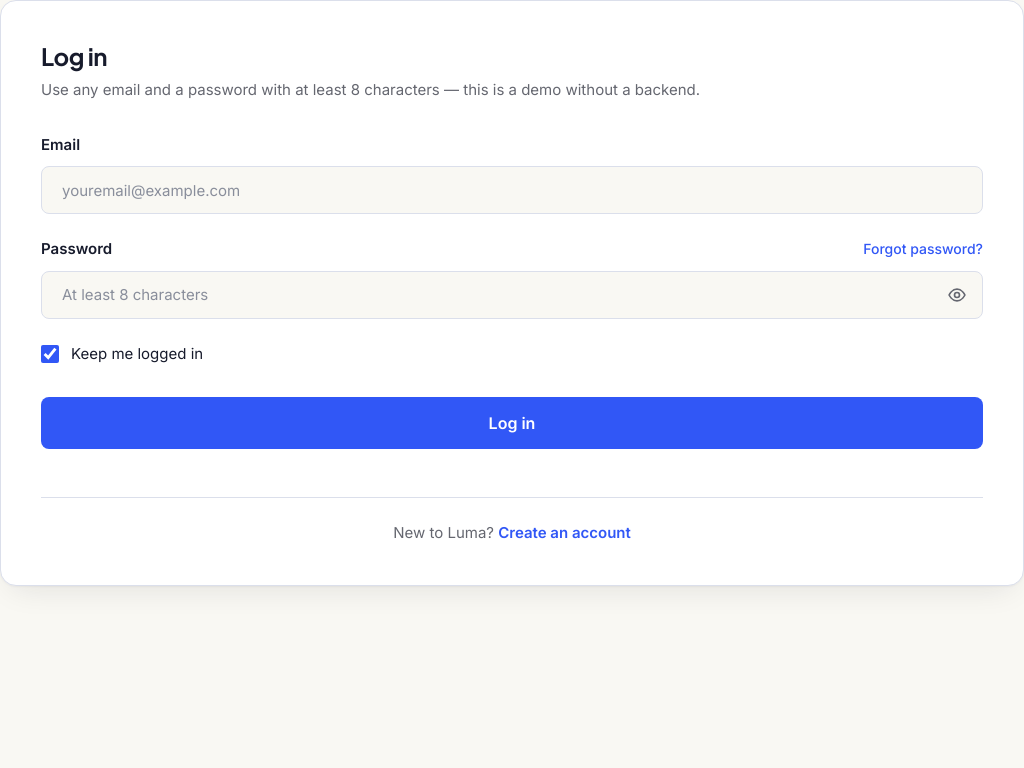
Test case: LoginForm › shows validation errors and focuses the first invalid field
The width and height of the screenshot is (1024, 768).
Type "not-an-email" into the field labelled "Email" at (512, 190), box [41,166,983,214]
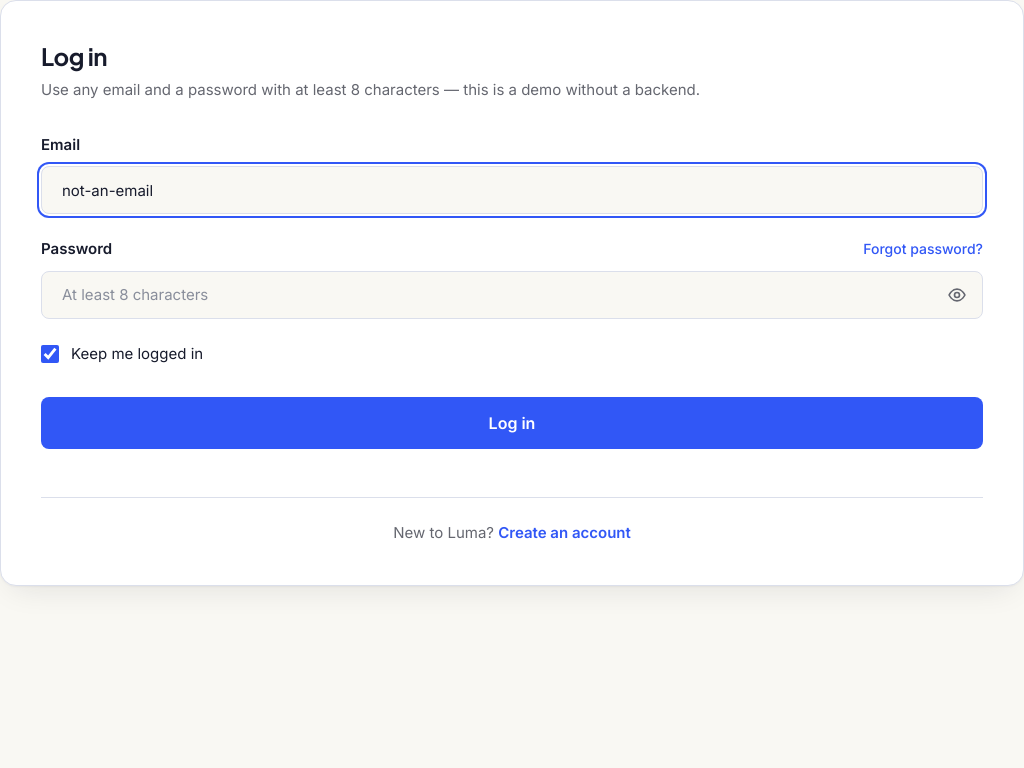
Click the button "Log in" at (512, 423), box [41,397,983,449]
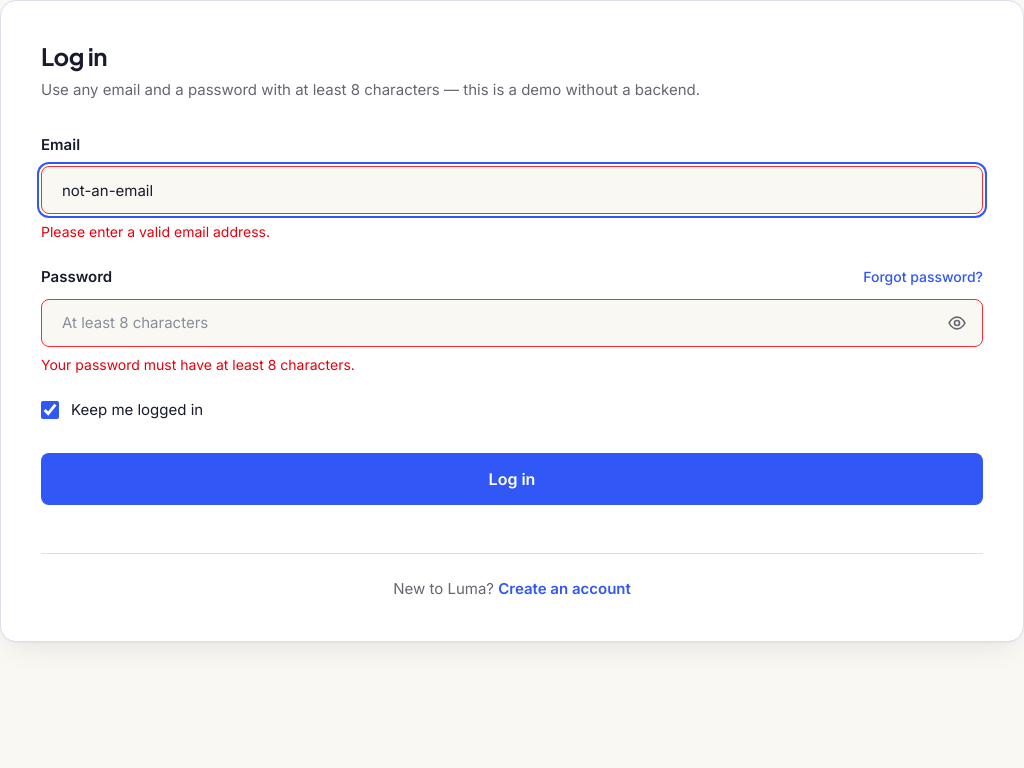
Expected: the text "Please enter a valid email address." is shown, [41,223,270,240]
Expected: the text "Your password must have at least 8 characters." is shown, [41,356,355,372]
